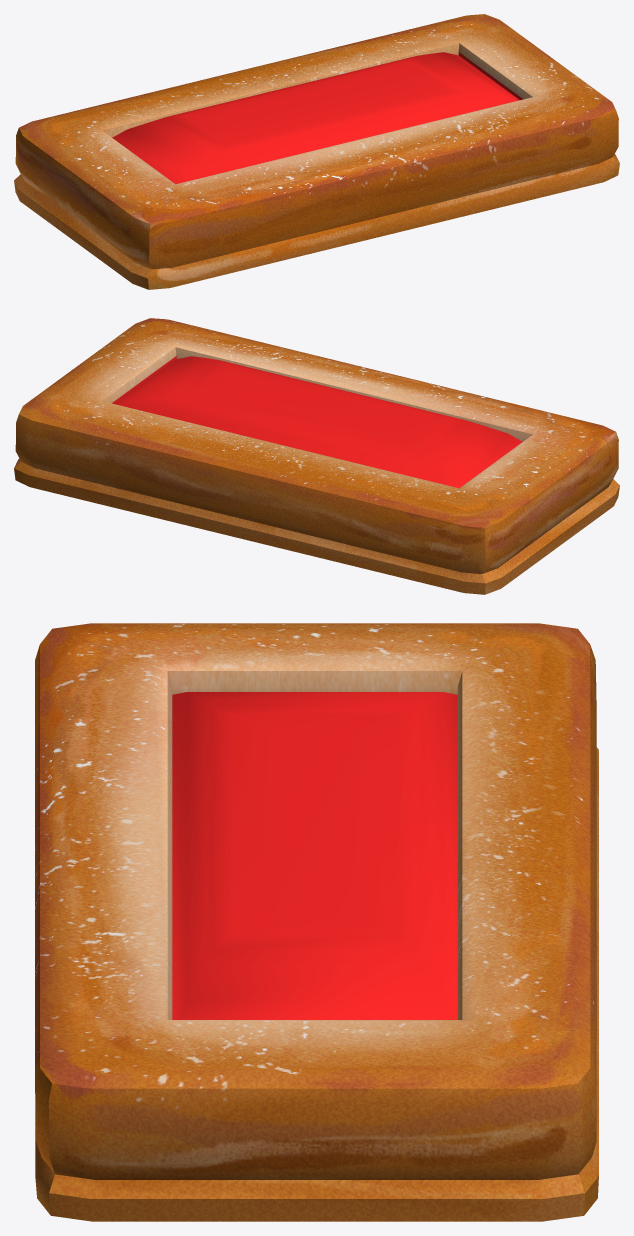
The model's file is aerial.fbx.
3 renders of one model, top to bottom at view 1: azimuth 30°, elevation 25°; view 2: azimuth 150°, elevation 25°; view 3: azimuth 270°, elevation 25°, orthographic. The views are drawn at different scales.
Bounding box in the file's own units: 20.11 × 3.24 × 10.15.
